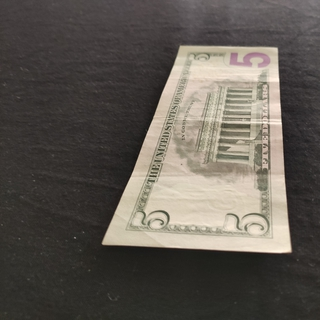5USDBack: (101, 44, 293, 254)
